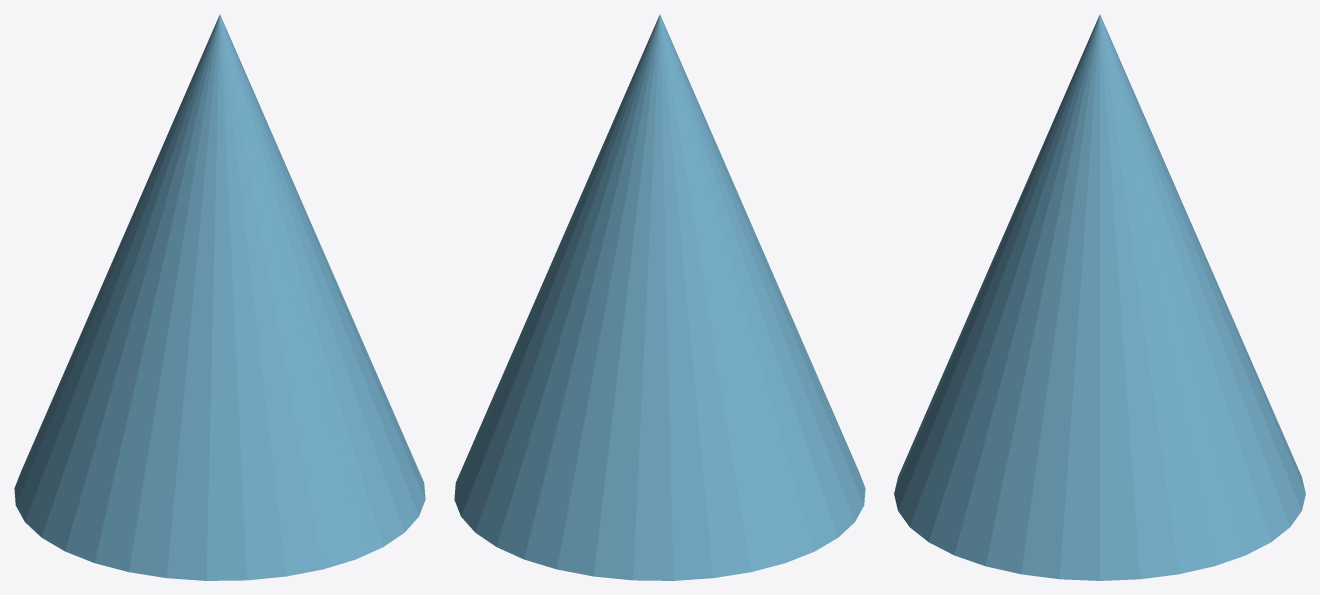
The picture shows the model from 3 angles, left to right: view 1: azimuth 30°, elevation 25°; view 2: azimuth 150°, elevation 25°; view 3: azimuth 270°, elevation 25°; orthographic projection.
Parts seen in each view (by area): view 1: P2_Cone; view 2: P2_Cone; view 3: P2_Cone.
Boxes of the visible parts, <box> form: P2_Cone: <box>14,14,425,580</box>; P2_Cone: <box>454,14,865,580</box>; P2_Cone: <box>894,14,1305,580</box>.
Bounding box in the file's own units: 0.7 × 0.9 × 0.7.
